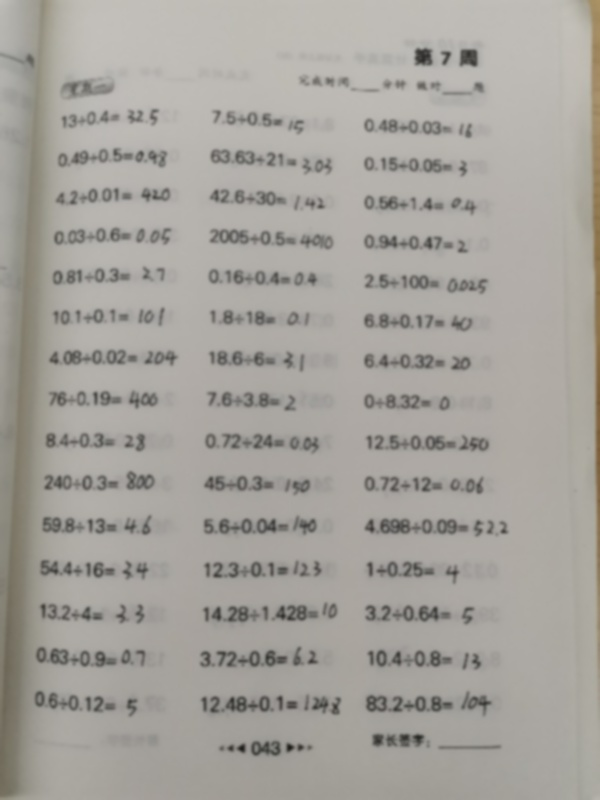equation: (197, 689, 344, 717), (362, 687, 494, 717), (361, 515, 511, 539), (199, 601, 340, 625), (206, 148, 336, 174), (45, 345, 181, 369), (360, 116, 481, 142), (196, 645, 321, 670), (201, 513, 321, 539), (361, 271, 491, 295), (207, 108, 310, 138), (41, 468, 159, 494), (45, 387, 162, 413), (360, 473, 486, 497), (55, 145, 171, 171), (363, 646, 483, 671), (201, 430, 321, 455), (40, 512, 155, 538), (362, 431, 492, 454), (51, 225, 174, 249), (32, 645, 148, 670), (362, 601, 477, 626), (206, 227, 336, 249), (49, 305, 168, 329), (37, 557, 151, 582), (207, 188, 329, 211), (201, 472, 313, 497), (52, 184, 173, 207), (36, 601, 147, 626), (360, 192, 480, 215), (200, 558, 324, 580), (363, 558, 462, 585), (360, 310, 475, 333), (49, 264, 168, 286), (31, 691, 140, 715), (204, 346, 307, 371), (360, 231, 471, 254), (42, 429, 148, 453), (360, 154, 470, 177), (58, 106, 162, 130), (360, 350, 473, 372), (205, 267, 320, 288), (205, 307, 312, 328), (202, 388, 298, 411), (360, 390, 453, 413)
